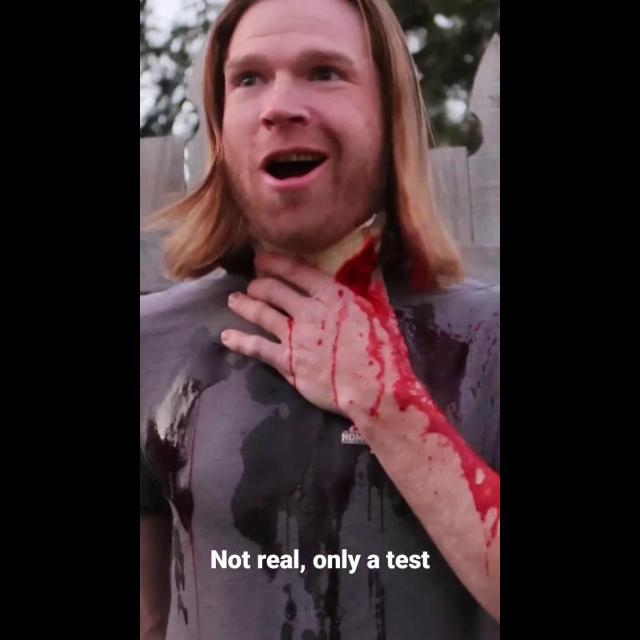blood: (317, 240, 500, 577), (284, 317, 299, 392)
